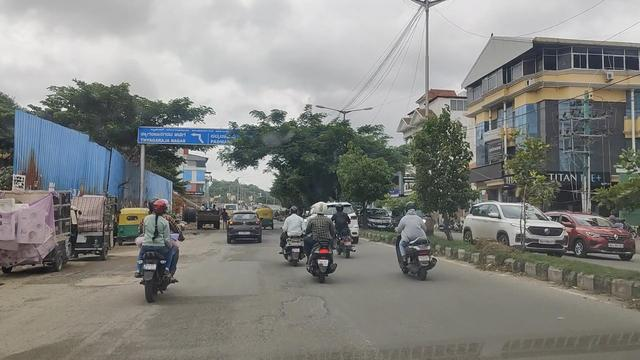LMV: (392, 201, 437, 282), (141, 194, 177, 292), (310, 204, 331, 279), (282, 207, 301, 264), (335, 204, 352, 256), (228, 211, 259, 239)
RoadDamages: (199, 304, 269, 350), (72, 322, 124, 357), (277, 294, 333, 326), (72, 262, 115, 293)
